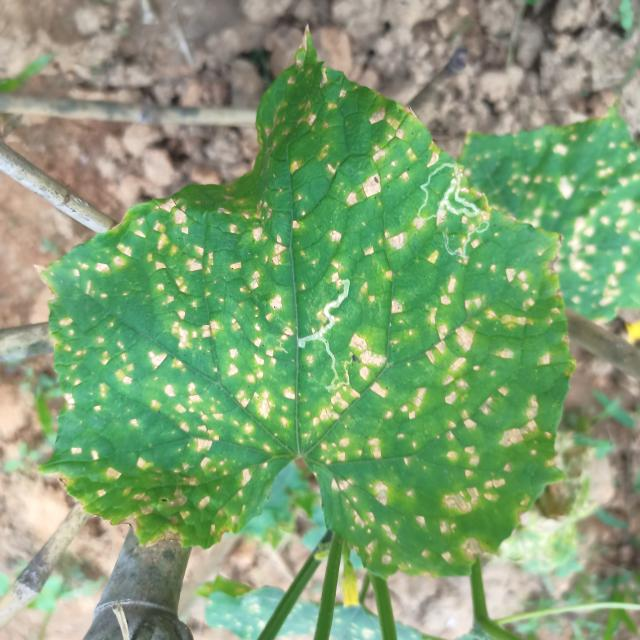disease_cucumber: (70, 95, 560, 564)
